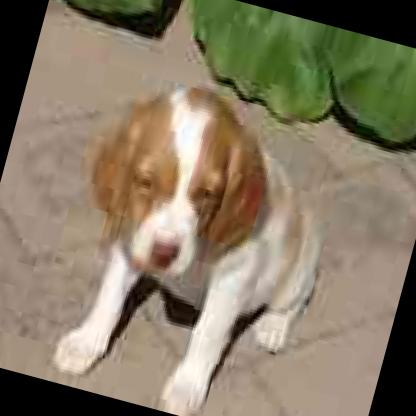Brittany_spaniel: (36, 61, 353, 416)
